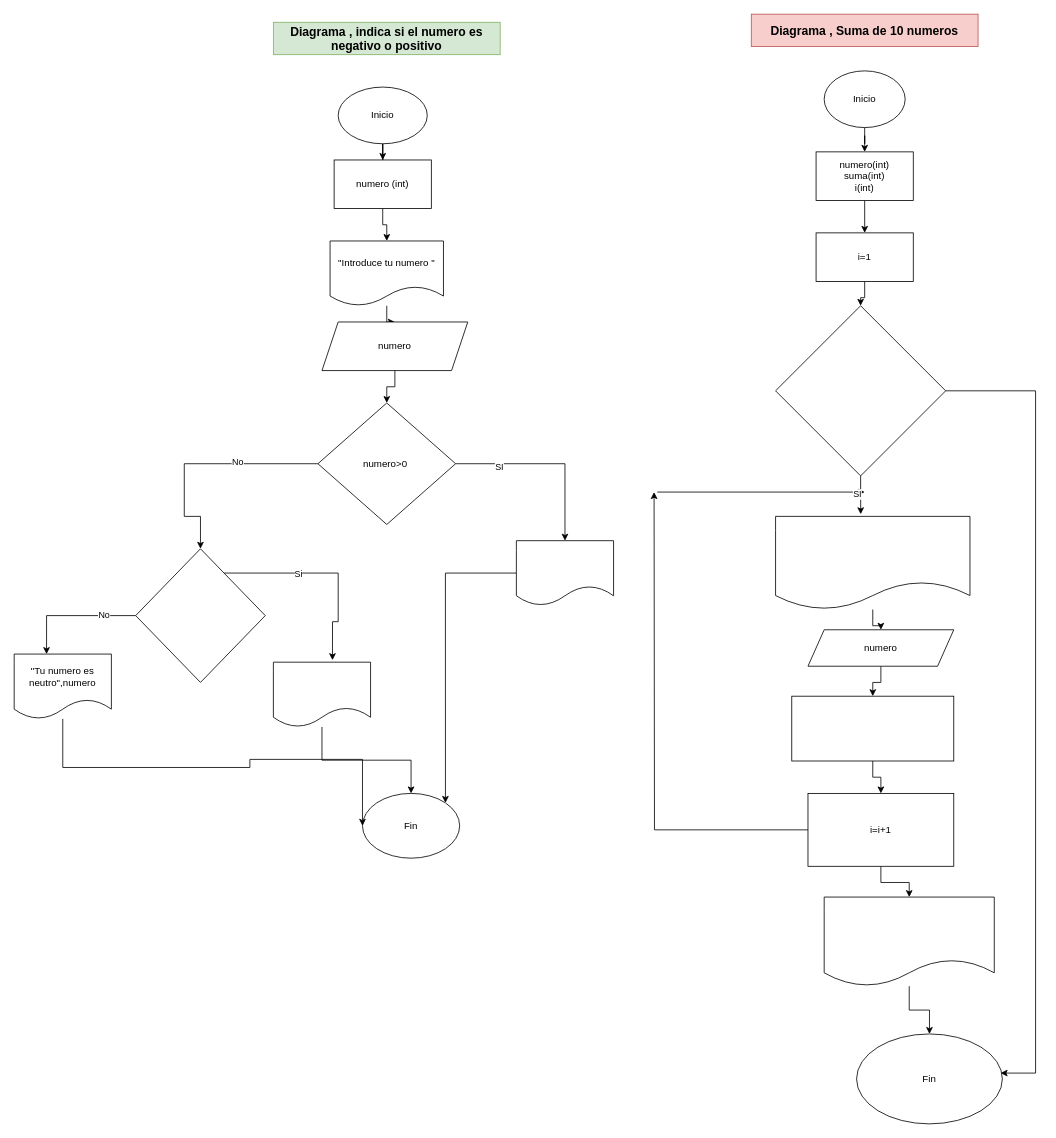
This 1056x1138 diagram has some shape labels left out. The centre of each missing label's shape, as x and y in pixels:
"El resultado es:", suma: [908,941]
"Introduce tu numero", i: [872,563]
"Tu numero es negativo", numero: [322,694]
"Tu numero es positivo", numero: [565,572]
num<=10: [860,390]
numero<0: [200,615]
suma=suma+numero: [872,728]
